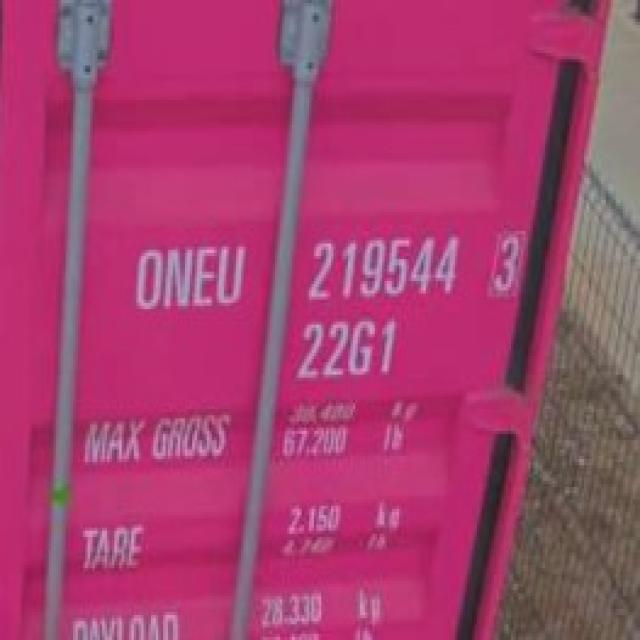dv: (487, 226, 524, 300)
owner: (129, 240, 250, 319)
serial: (305, 232, 463, 304)
size: (290, 311, 402, 385)
